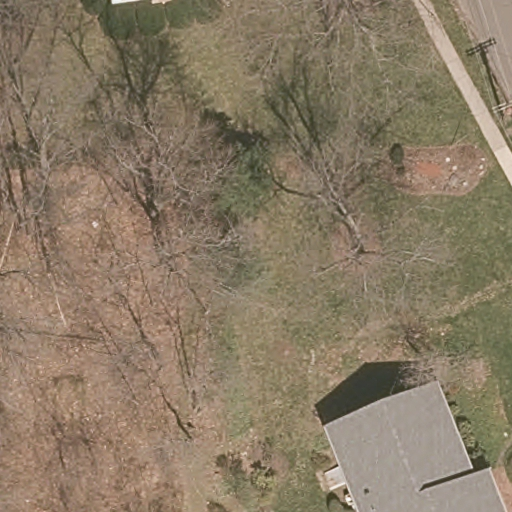DT: (491, 81, 512, 115)
